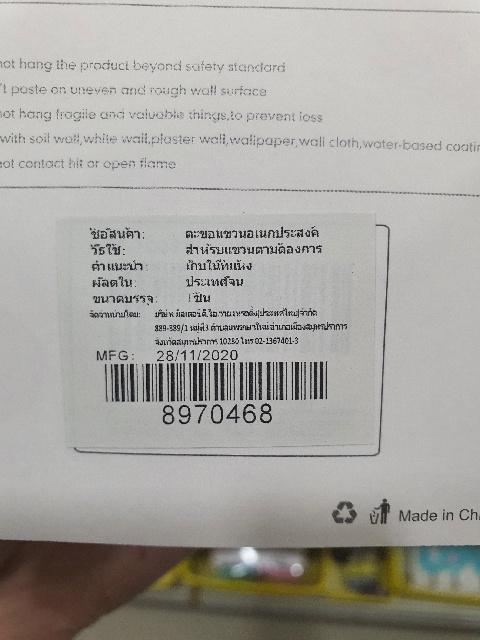Barcode: (98, 354, 337, 427)
